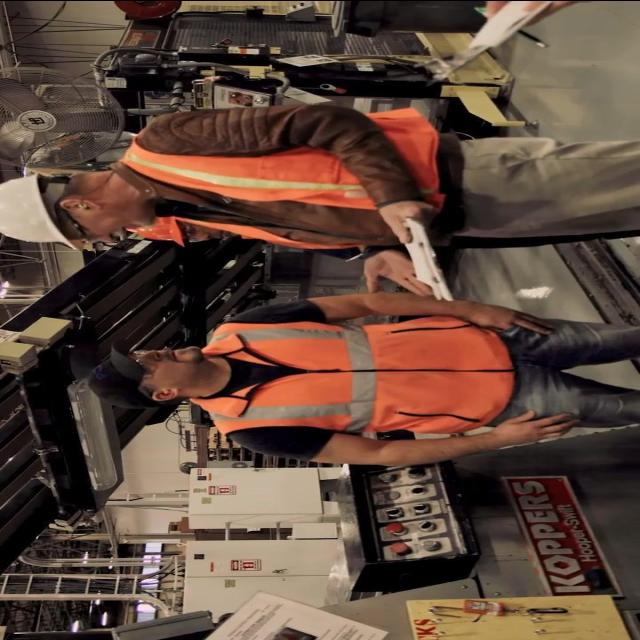helmet: (0, 166, 98, 258)
jacket: (115, 105, 446, 256), (202, 303, 508, 450)
